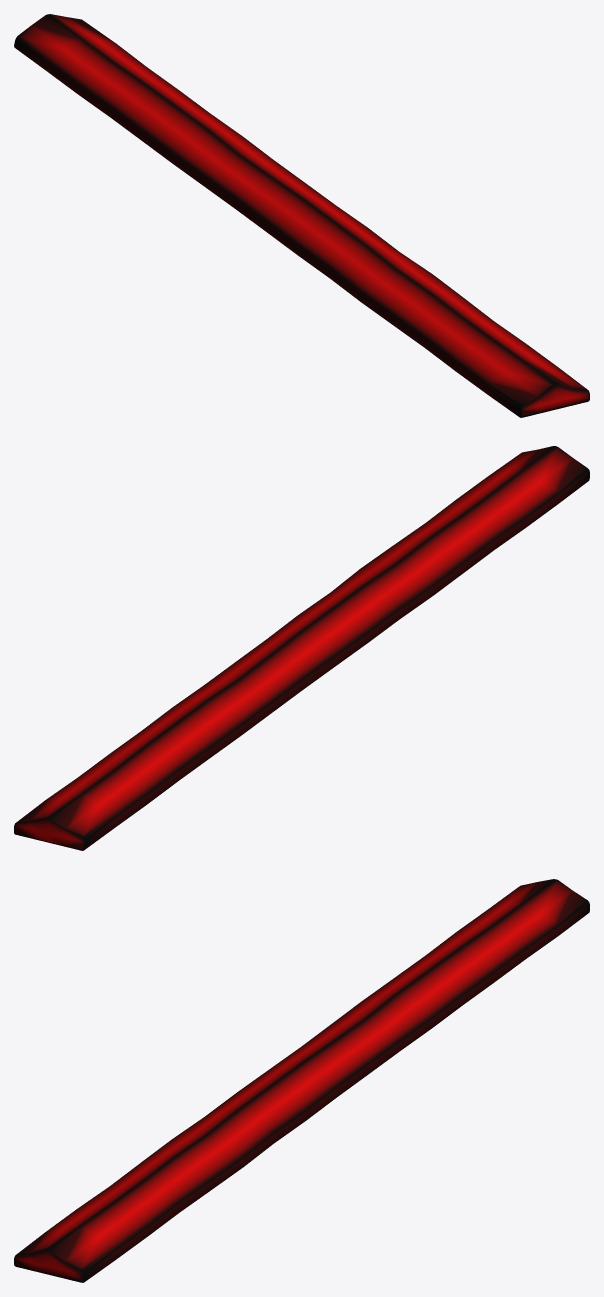
Rendered from fence_frame_4.fbx.
The picture shows the model from 3 angles, top to bottom: view 1: azimuth 30°, elevation 25°; view 2: azimuth 150°, elevation 25°; view 3: azimuth 330°, elevation 25°; orthographic projection.
Parts seen in each view (by area): view 1: fence_frame_4; view 2: fence_frame_4; view 3: fence_frame_4.
Part boxes in pixels (bbox=[...]): fence_frame_4: bbox=[14, 14, 589, 417]; fence_frame_4: bbox=[14, 446, 589, 850]; fence_frame_4: bbox=[14, 879, 589, 1282].
Size of the model in its own units: 0.3373 by 0.1148 by 4.03.
